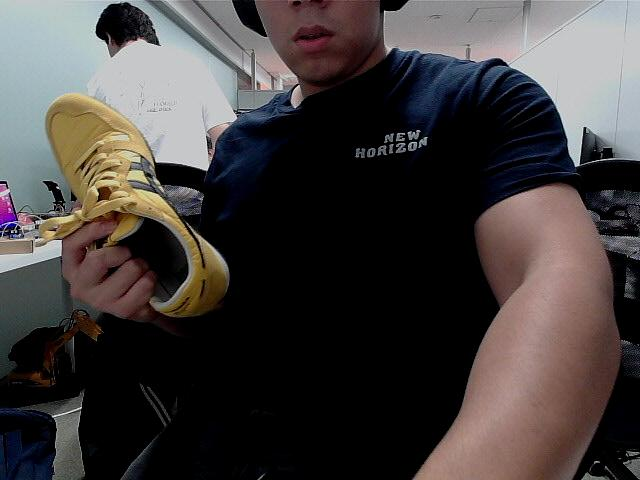Shoes: (38, 92, 228, 318)
